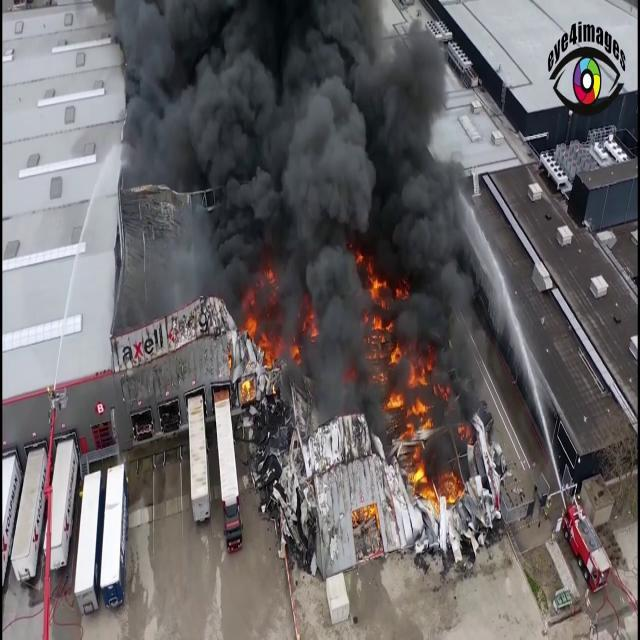Fire: (384, 343, 440, 460), (406, 454, 472, 524), (234, 322, 285, 409)
Smoke: (125, 5, 494, 388)
